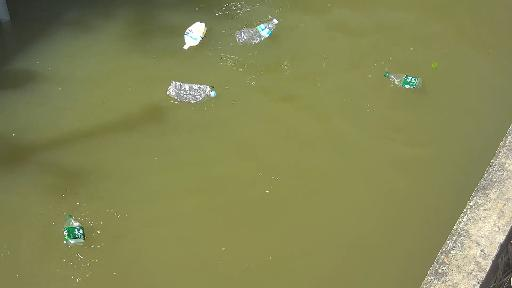leaf: (422, 53, 446, 72)
plastic: (150, 71, 238, 106), (54, 201, 93, 262), (369, 66, 438, 94), (234, 13, 292, 46), (176, 19, 219, 49)
